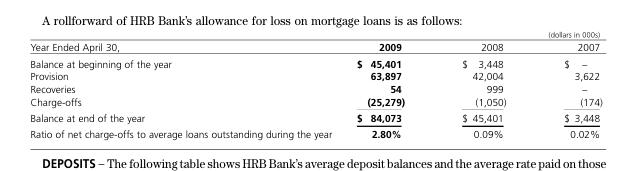table: (29, 29, 601, 139)
table column: (29, 29, 343, 139), (432, 29, 534, 139), (343, 29, 432, 139), (534, 29, 601, 139)
table column header: (29, 29, 601, 54)
table row: (29, 109, 601, 125), (29, 39, 601, 54), (29, 54, 601, 69), (29, 94, 601, 109), (29, 125, 601, 139), (29, 81, 601, 94), (29, 69, 601, 81), (29, 29, 601, 39)
table spanning cell: (29, 29, 343, 54), (343, 29, 601, 39)
